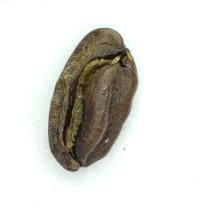NG: (61, 42, 126, 159)
